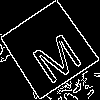M: (24, 24, 85, 86)
